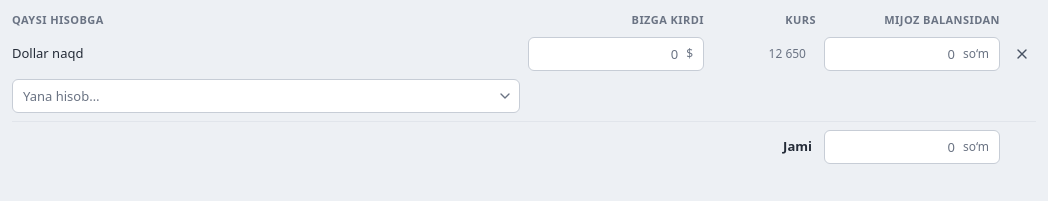
Test case: the ready lines › say which way an agreed sum cuts: money in worth more than it settles is the business’s gain
This screenshot has width=1048, height=201.
In the 1st field with placeholder "0": (606, 54) x1=529 y1=38 x2=682 y2=70, type "100"
Then press Tab
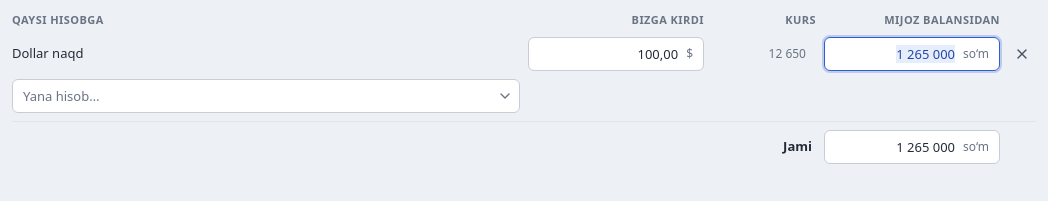
Replace the text in the 2nd field with "1250000": (892, 54) x1=825 y1=38 x2=959 y2=70
Then press Tab
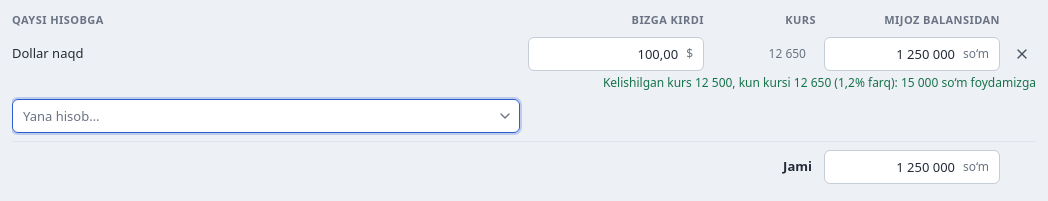
Expected: the text "Kelishilgan kurs 12 500, kun kursi 12 650 (1,2% farq): 15 000 so‘m foydamizga" is shown, x1=603 y1=74 x2=1036 y2=90
